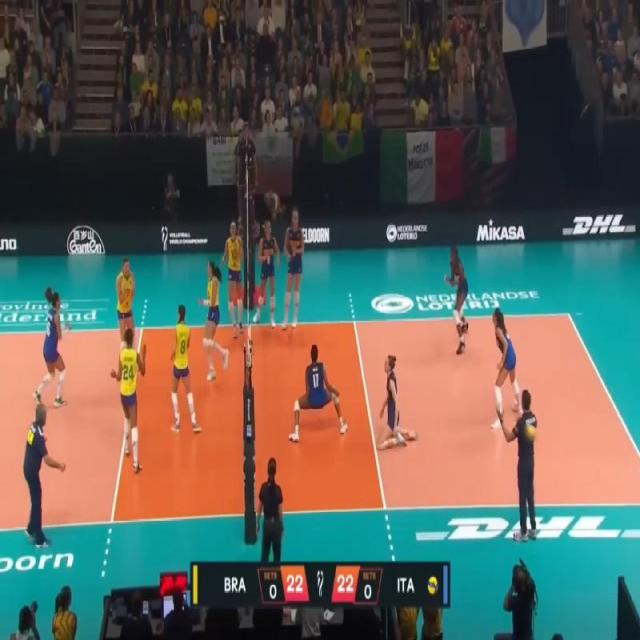volleyball: (524, 424, 536, 443)
